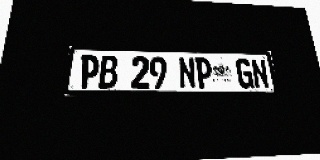2: (132, 56, 149, 88)
9: (150, 56, 167, 88)
B: (98, 55, 118, 88)
G: (235, 58, 254, 88)
N: (250, 59, 270, 88), (178, 57, 196, 88)
P: (79, 55, 100, 88), (195, 57, 213, 88)
